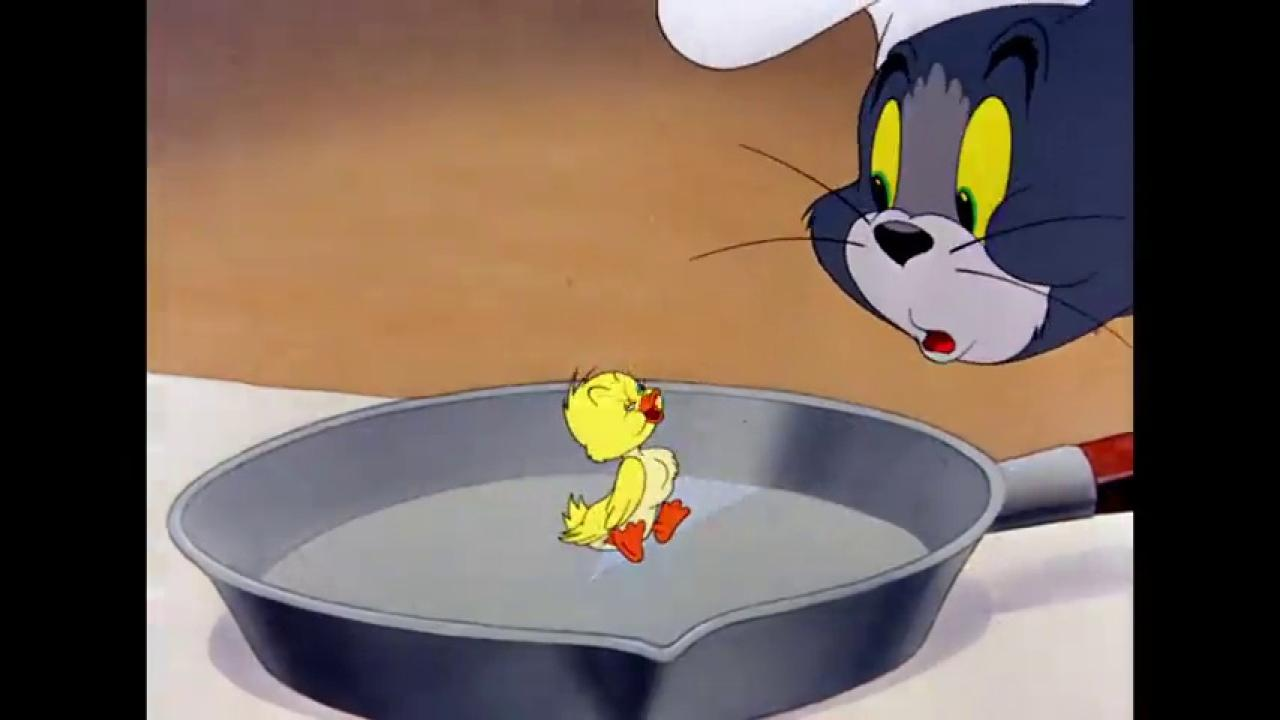Tom: (800, 0, 1133, 365)
